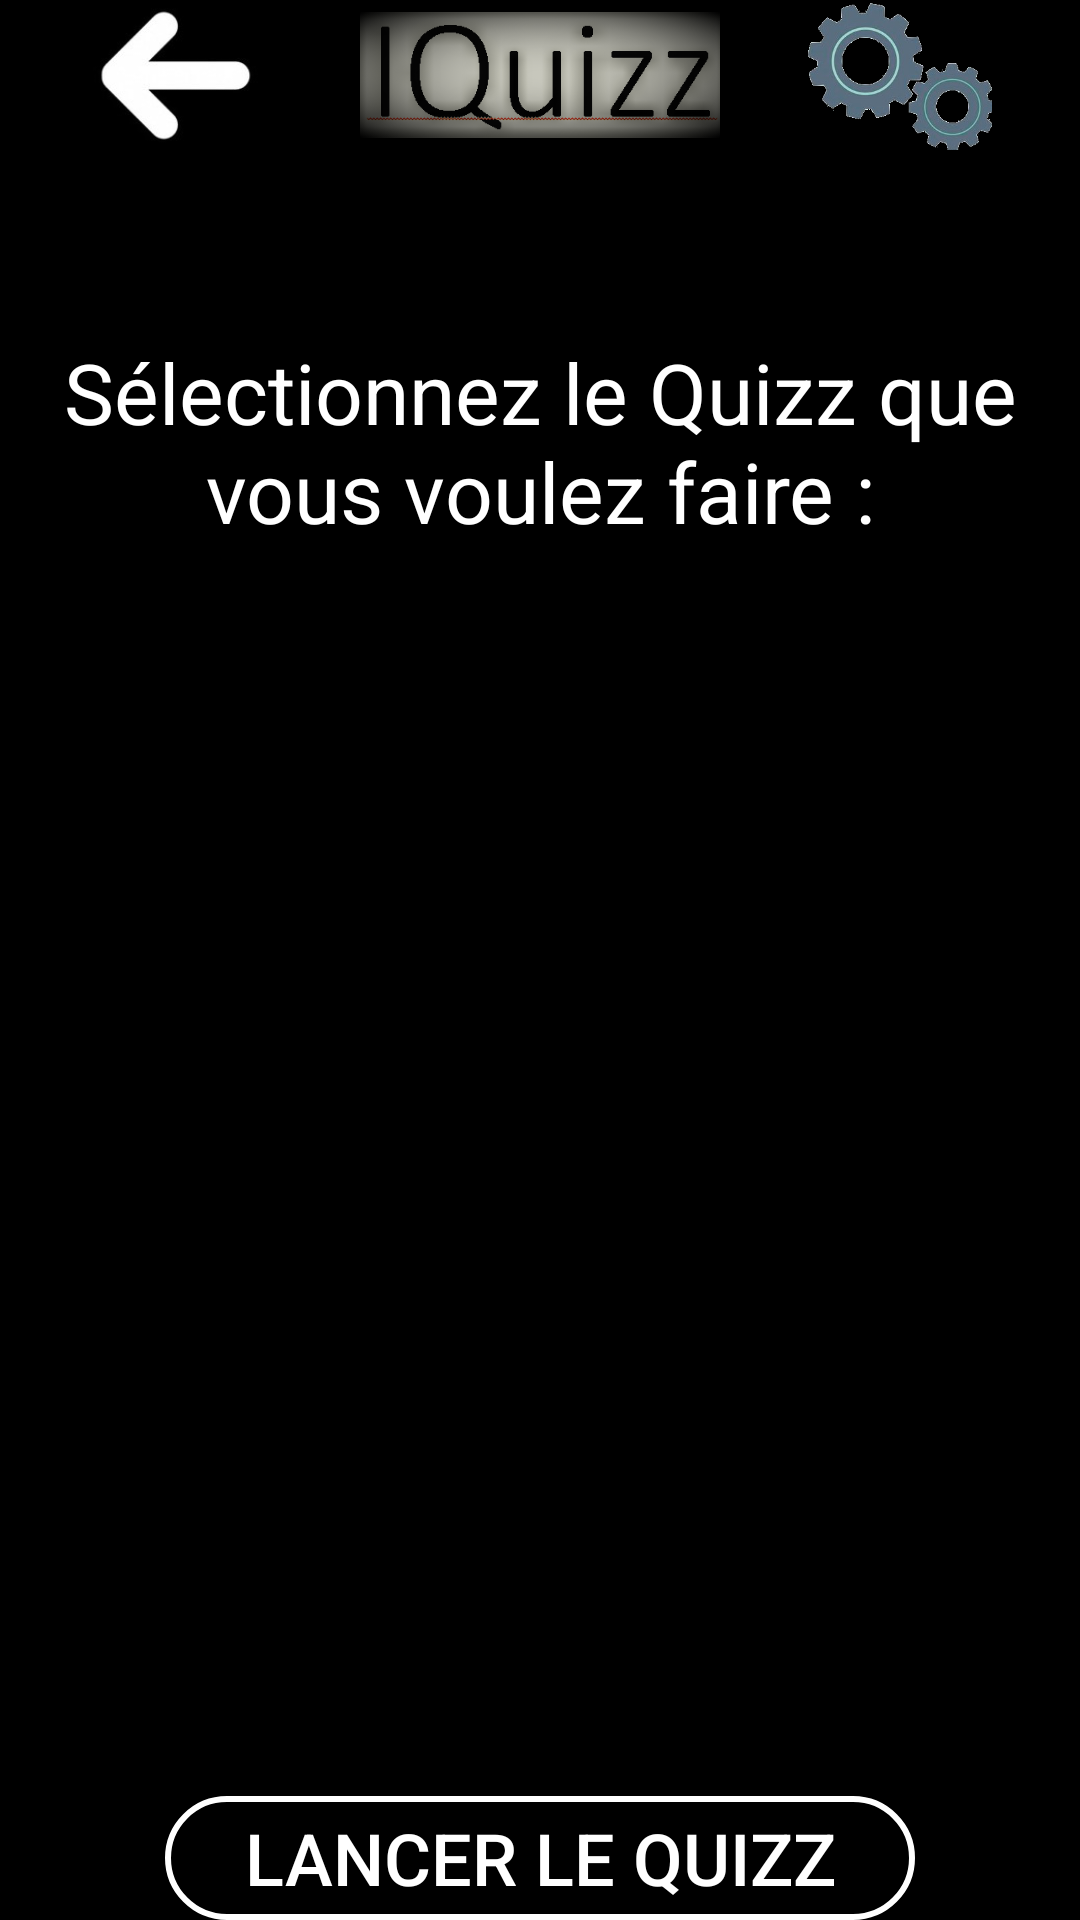

Where icons sit on this 1080 x 1920 app screen, as (x1, y1, x2, y2):
engrenages: (808, 3, 992, 150)
fleche retour: (101, 11, 251, 140)
